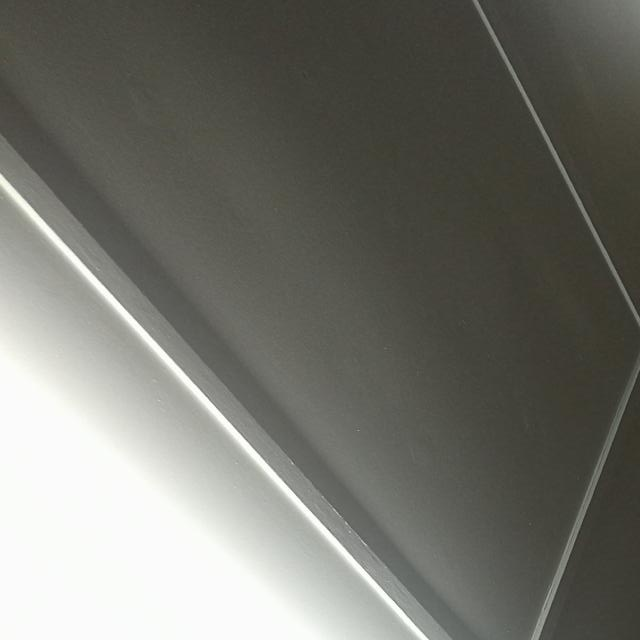fluorescent tube: (0, 285, 501, 640)
